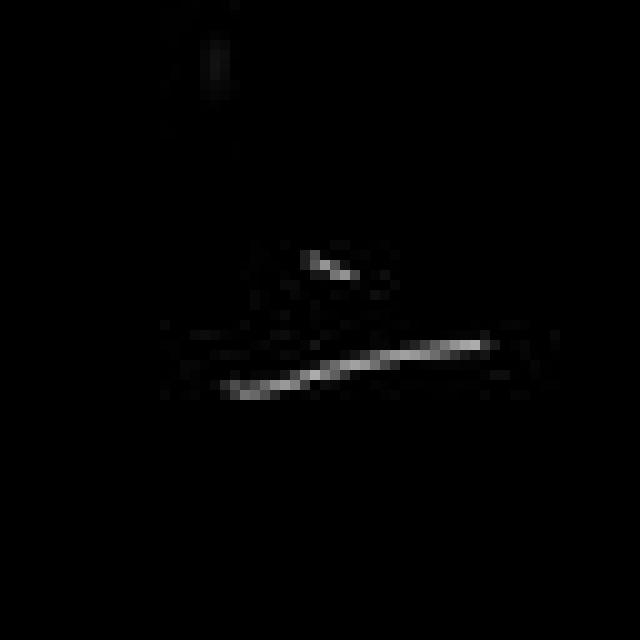2 -two-: (216, 233, 502, 423)
